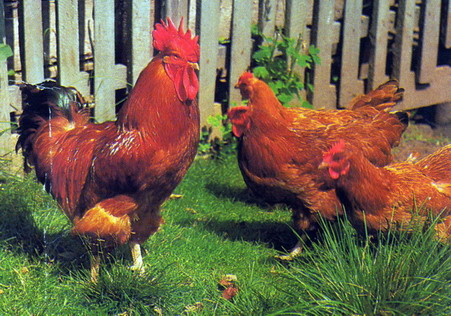chicken: (10, 14, 205, 290), (223, 104, 413, 262), (233, 71, 407, 165), (318, 137, 451, 251)
